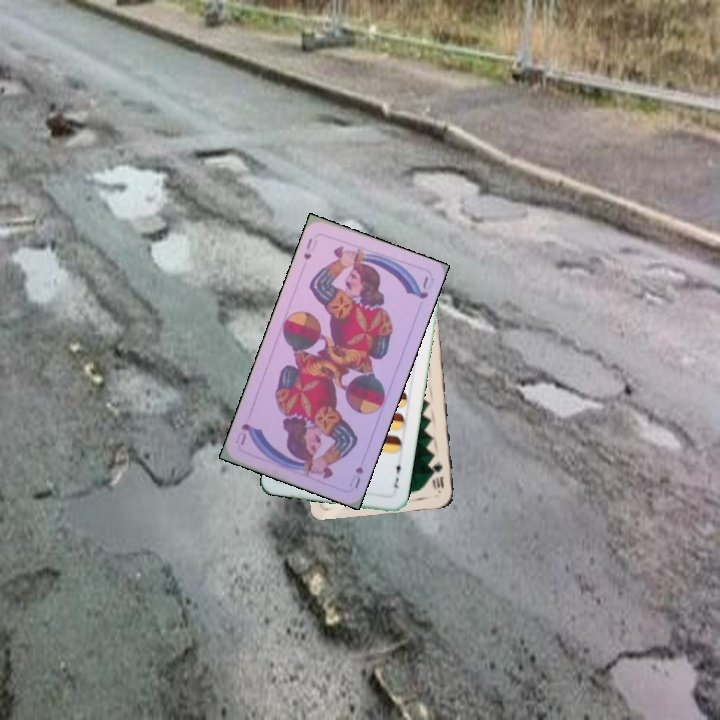E7: (390, 457, 405, 491)
G10: (429, 457, 446, 494)
SU: (345, 462, 366, 491), (299, 234, 315, 263)
